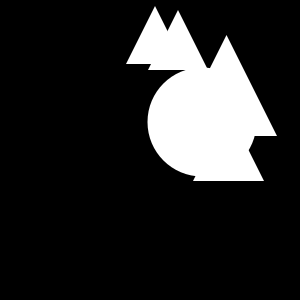rectangle: (148, 68, 256, 176)
triangle: (176, 35, 277, 136), (193, 110, 264, 181), (148, 10, 208, 70), (126, 6, 184, 64)
